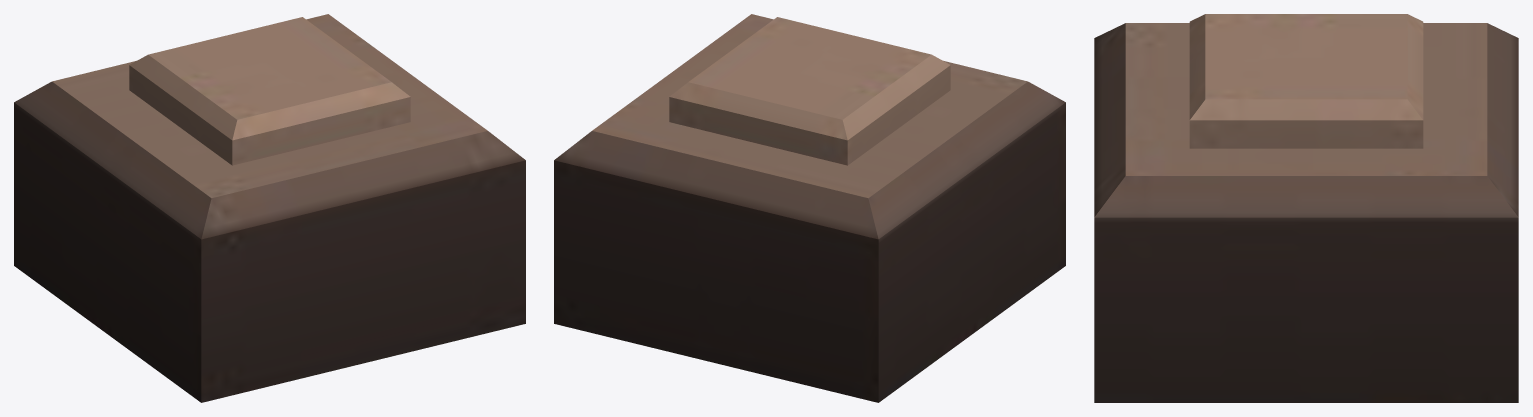
The model's file is assembling-machine-1.glb.
The picture shows the model from 3 angles, left to right: view 1: azimuth 30°, elevation 25°; view 2: azimuth 150°, elevation 25°; view 3: azimuth 270°, elevation 25°; orthographic projection. The views are drawn at different scales.
Parts seen in each view (by area): view 1: assembling-machine-1; view 2: assembling-machine-1; view 3: assembling-machine-1.
Boxes of the visible parts, x1,y1,x2,y2 form: assembling-machine-1: (14, 14, 525, 402); assembling-machine-1: (554, 14, 1065, 402); assembling-machine-1: (1094, 14, 1518, 402).
Size of the model in its own units: 0.27 by 0.18 by 0.27.
Materials: 1 (1 with a texture image).
